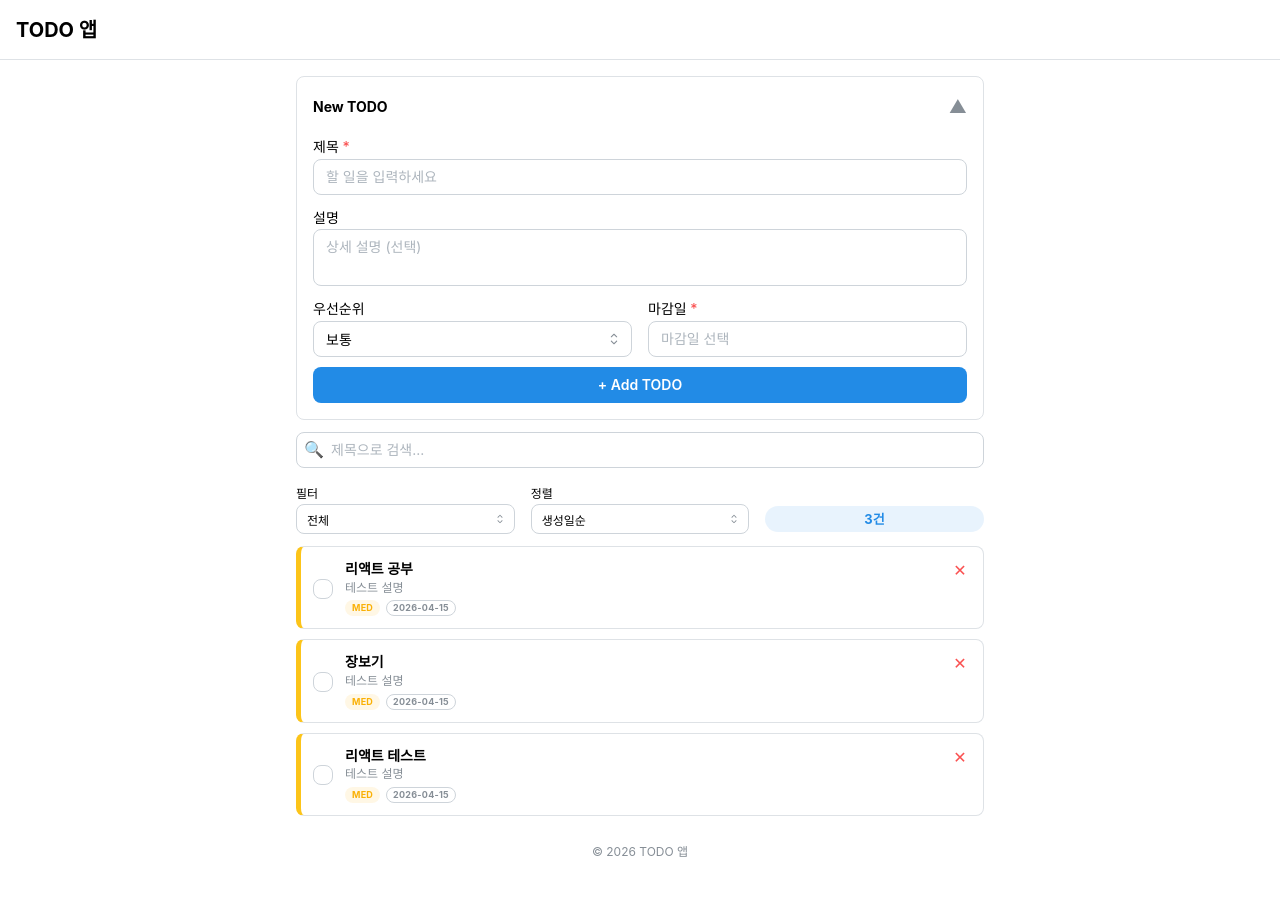
Scenario: App 통합 테스트 — 검색 › 제목으로 검색하면 매칭되는 항목만 표시된다
Type "리액트" into the field with placeholder "제목으로 검색..." at (640, 450), box [296,432,984,468]
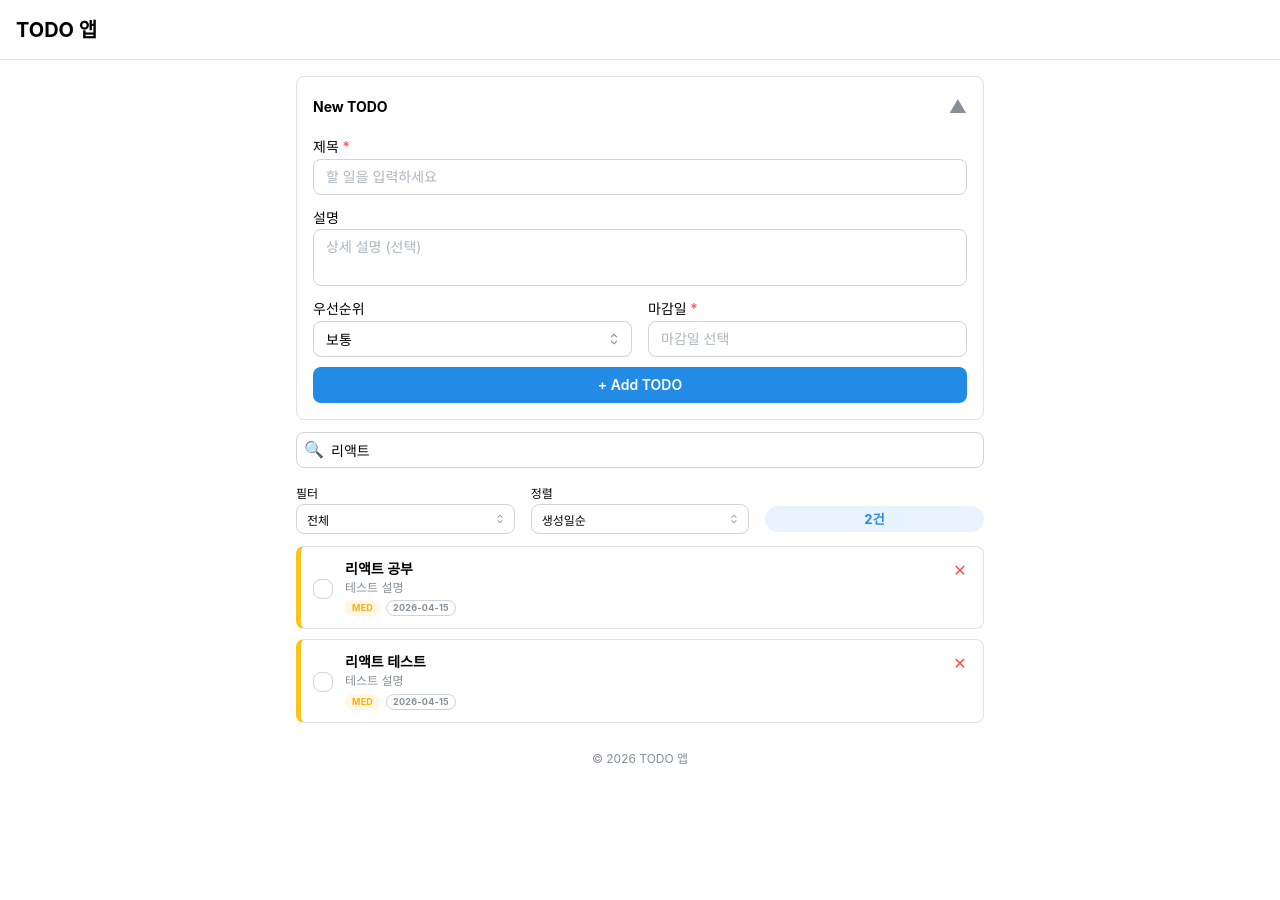
Check: the text "리액트 공부" is shown, box [345,560,413,577]
Check: the text "장보기" is gone
Check: the text "2건" is shown, box [864,507,885,531]
